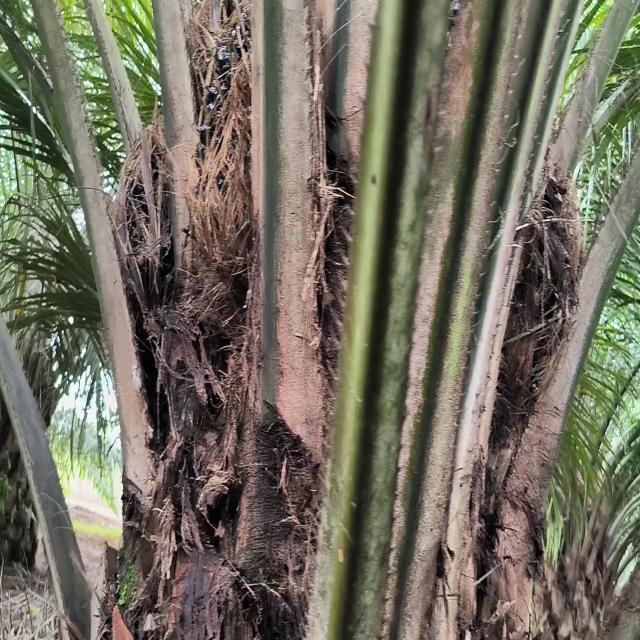palm-oil: (180, 22, 259, 294)
